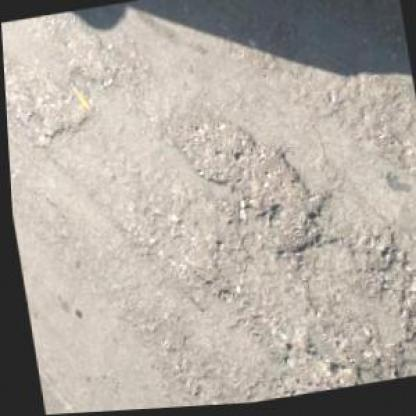pothole: (229, 136, 331, 269), (162, 98, 255, 200), (57, 19, 125, 93)
